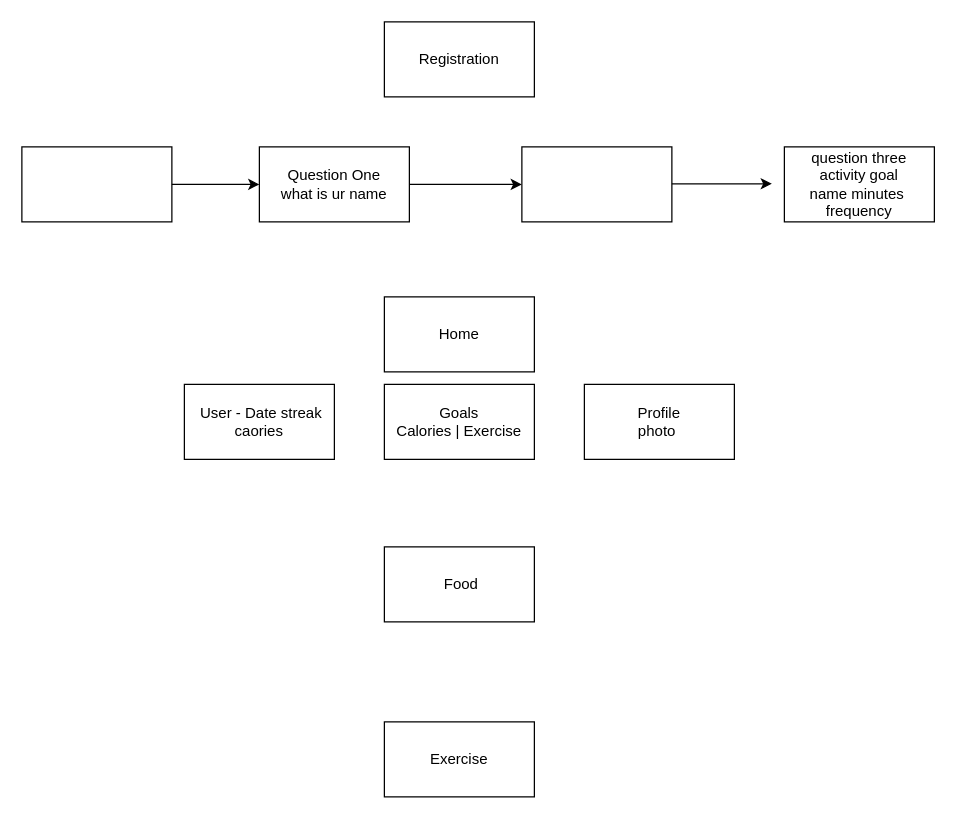
Image size: 956x819. Some labels were removed from this diagram. The shapes that lost their labels are listed below. From the top down, each one's centre as x and y in pixels, then its label:
At point (96, 184): "Register".
At point (596, 184): "question two height | weight | goal".
